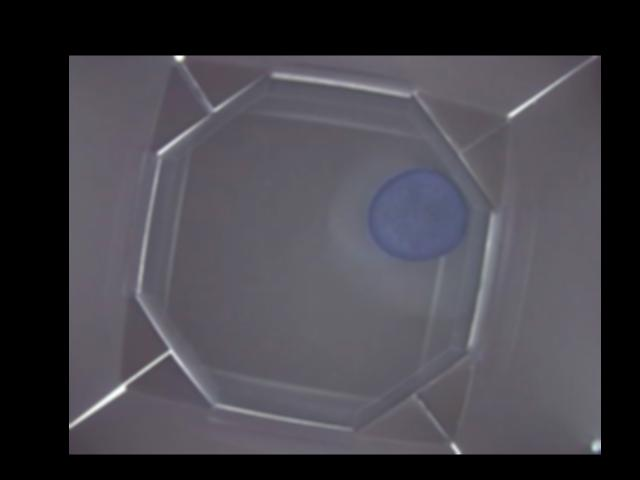Mooli: (367, 169, 469, 263)
